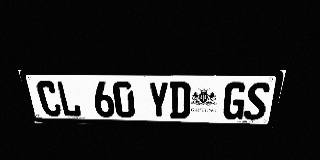0: (112, 81, 135, 118)
6: (91, 81, 116, 117)
C: (35, 81, 63, 117)
D: (169, 82, 191, 119)
G: (222, 82, 248, 120)
L: (55, 81, 82, 117)
S: (243, 82, 271, 120)
Y: (148, 81, 169, 118)
